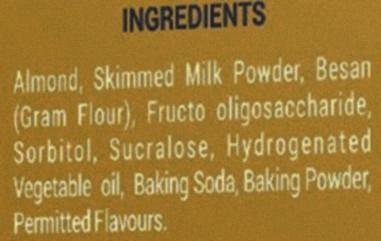ingredients: (1, 2, 380, 240)
